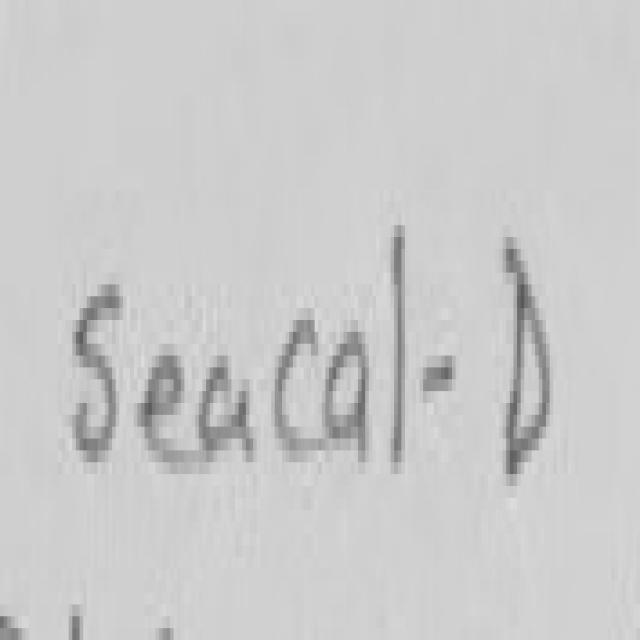D: (510, 249, 553, 468)
S: (76, 284, 119, 462)
a: (199, 367, 255, 467), (329, 332, 369, 471)
c: (273, 320, 324, 461)
e: (141, 356, 195, 476)
l: (394, 225, 405, 456)
